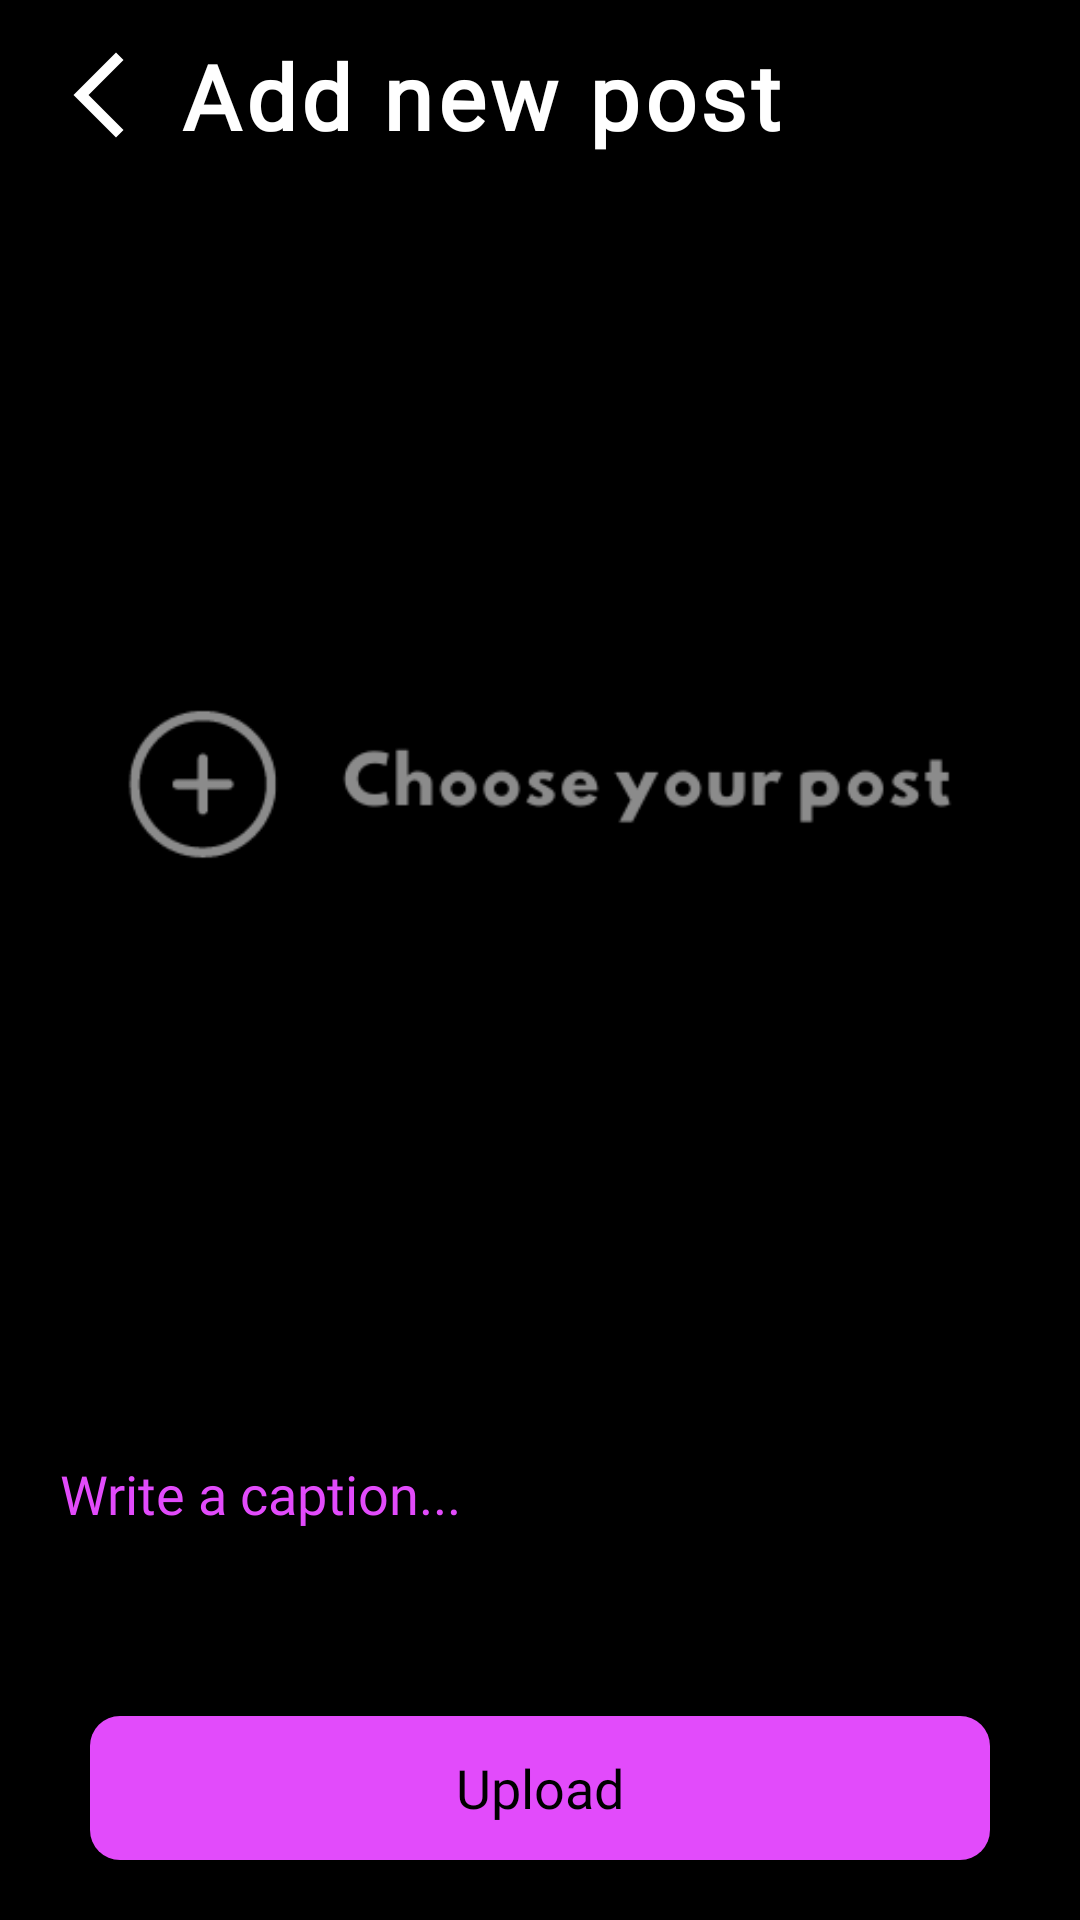

Locate icon controls on the screen. Image size 1080×1920, boxes as bbox(x1, y1, x2, y2).
back: bbox(73, 52, 124, 138)
